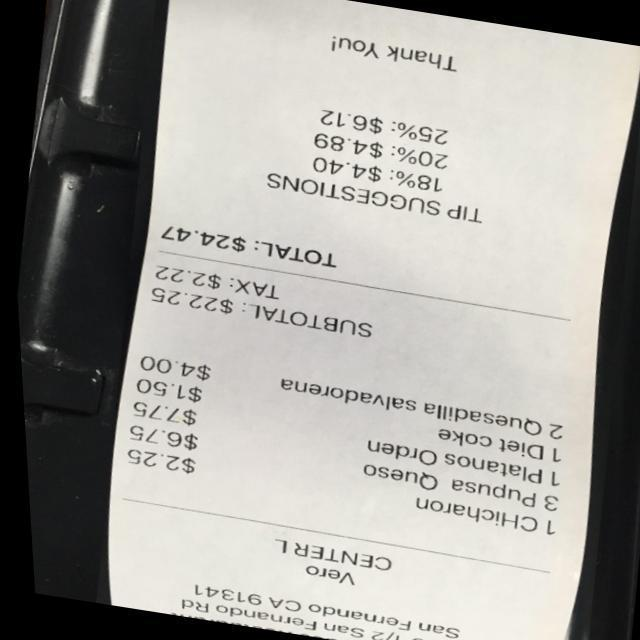Paper: (102, 0, 640, 640)
